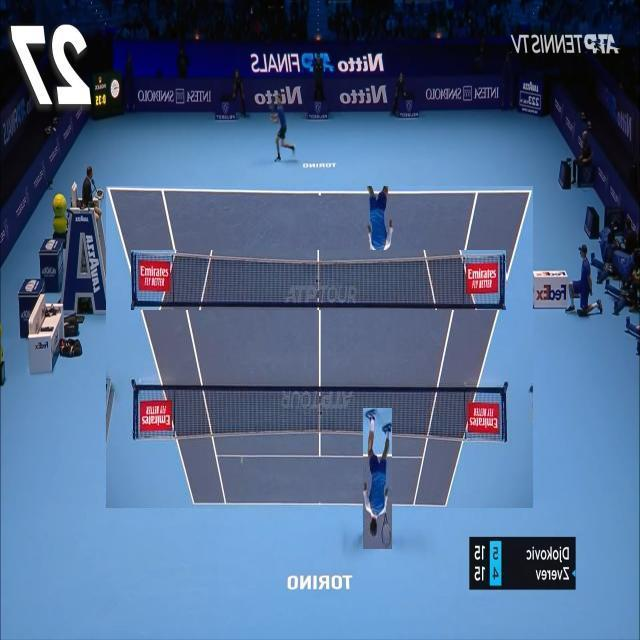court: (106, 186, 533, 508)
net: (132, 250, 508, 310)
player: (364, 408, 394, 549)
